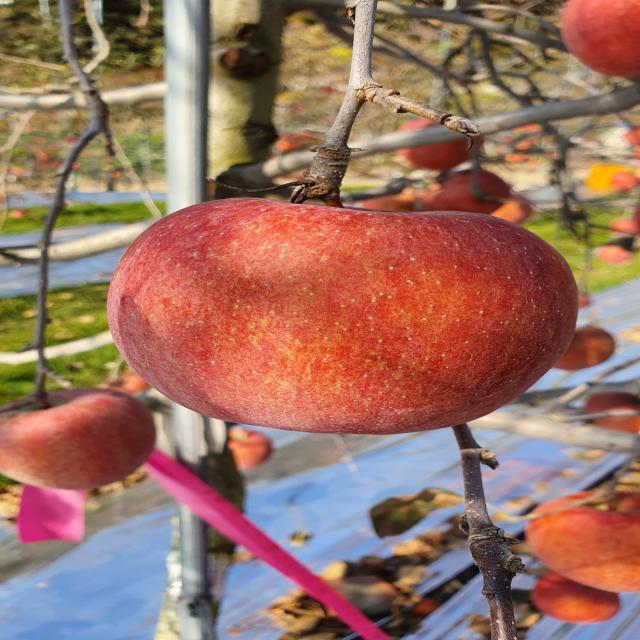fresh: (101, 188, 588, 445), (245, 275, 256, 278)
